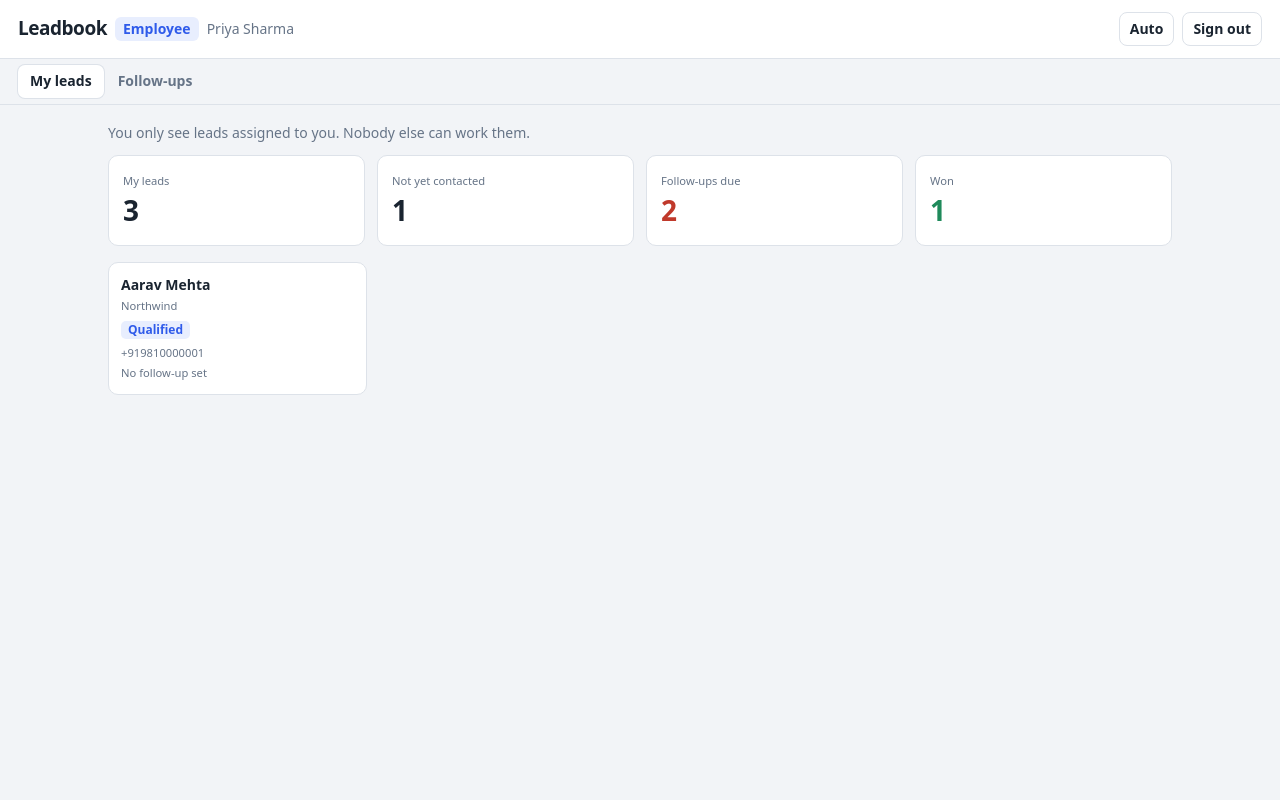
Lead drawer for employees (8.2) › adds a note, clears the box, and shows it in the history
Click the button with aria-label "Open Aarav Mehta": coordinates (237, 328) [108,262,366,395]
(page scrolled)
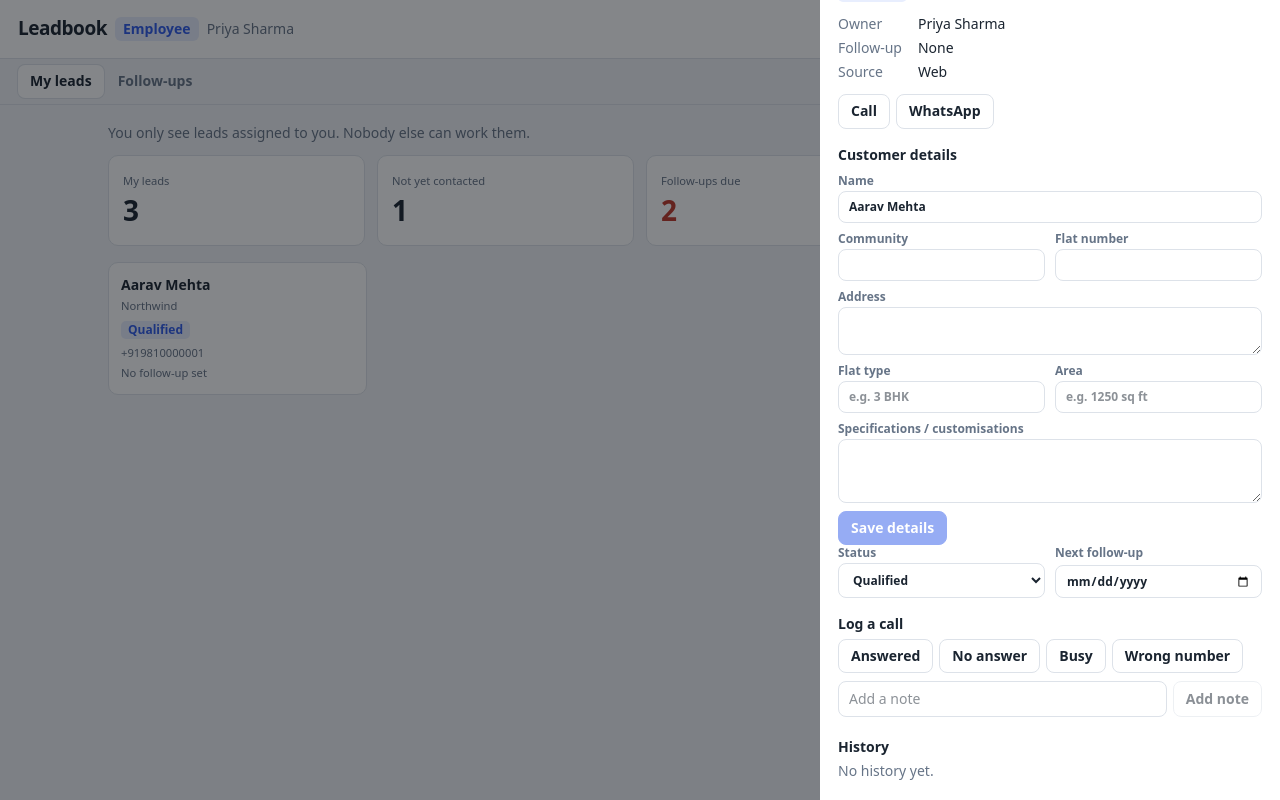
Check: the button "Add note" is disabled, box [1173,681,1262,717]
In the field labelled "note": coordinates (1002, 699) [838,681,1167,717], type "  Wants a demo "
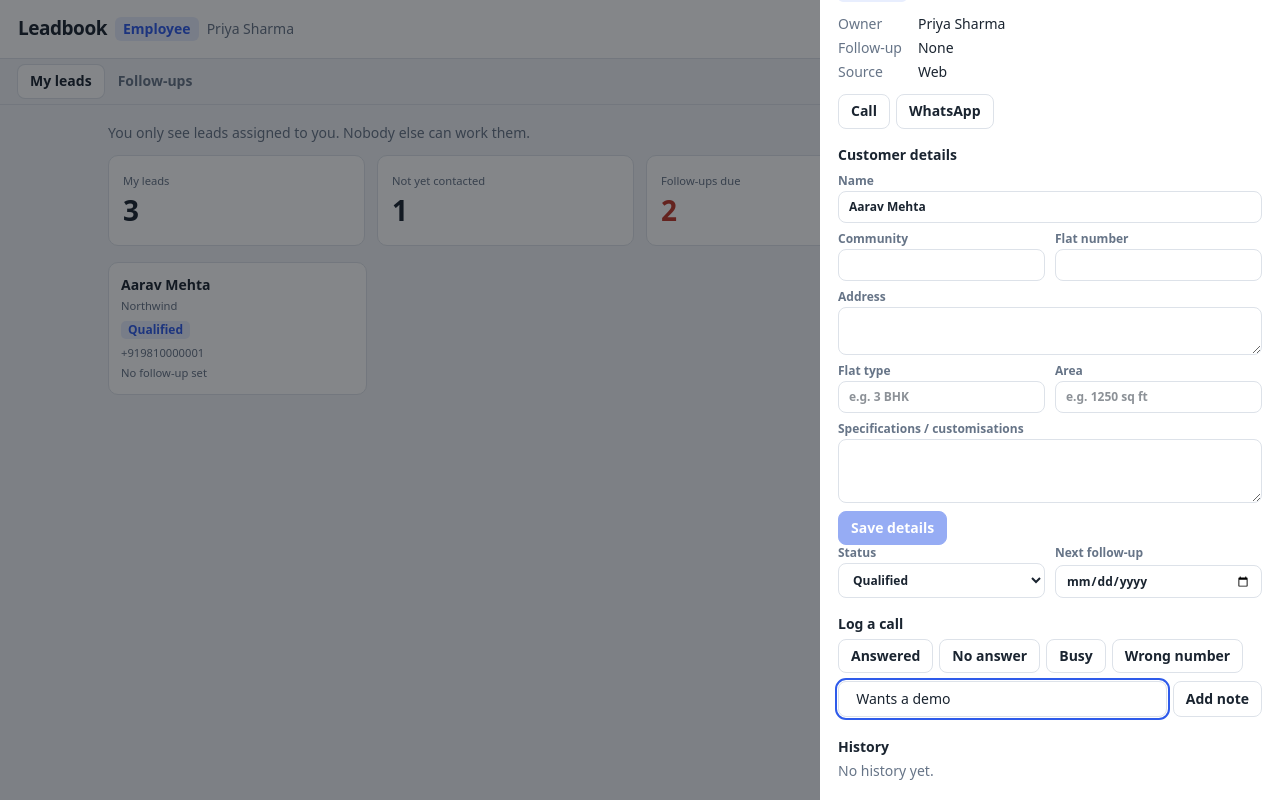
Click the button "Add note": coordinates (1217, 699) [1173,681,1262,717]
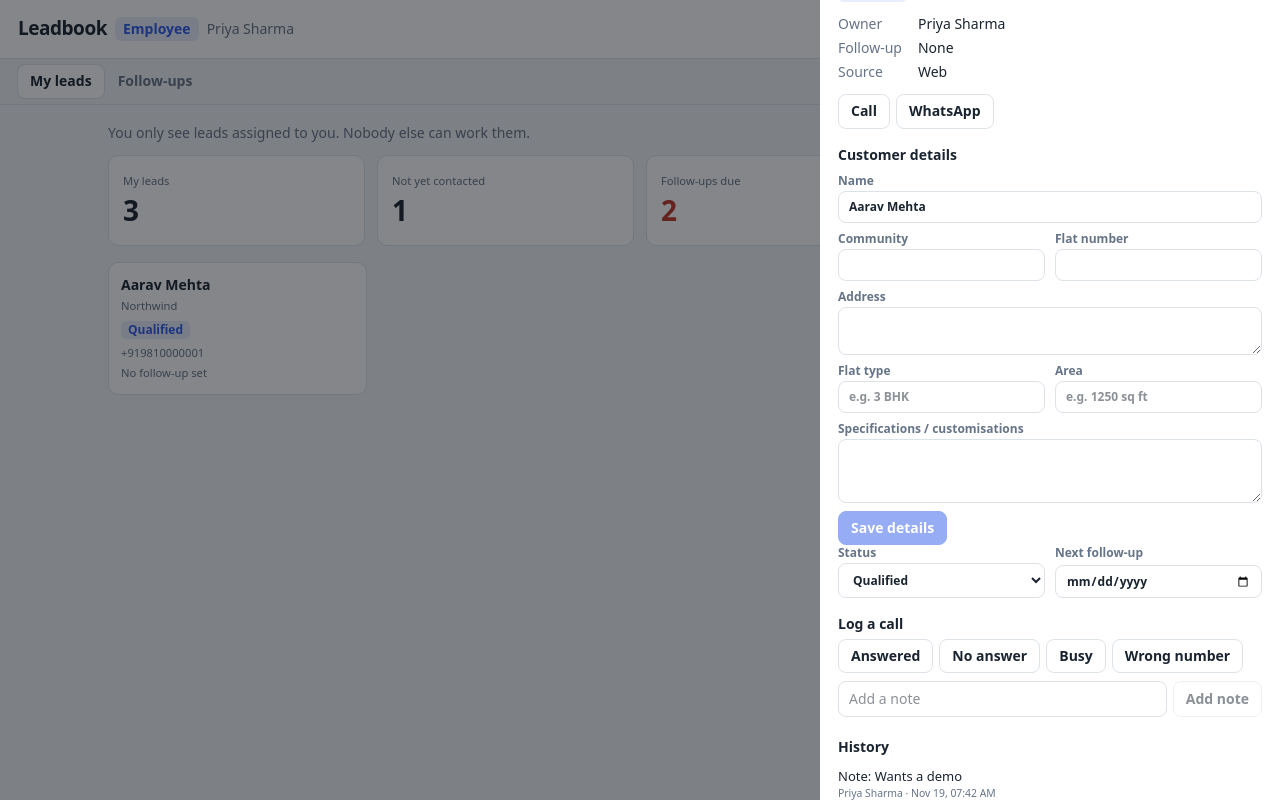
Check: the list item "Note: Wants a demo" is shown, box [838,767,962,785]
Check: the field labelled "note" is empty, box [838,681,1167,717]
